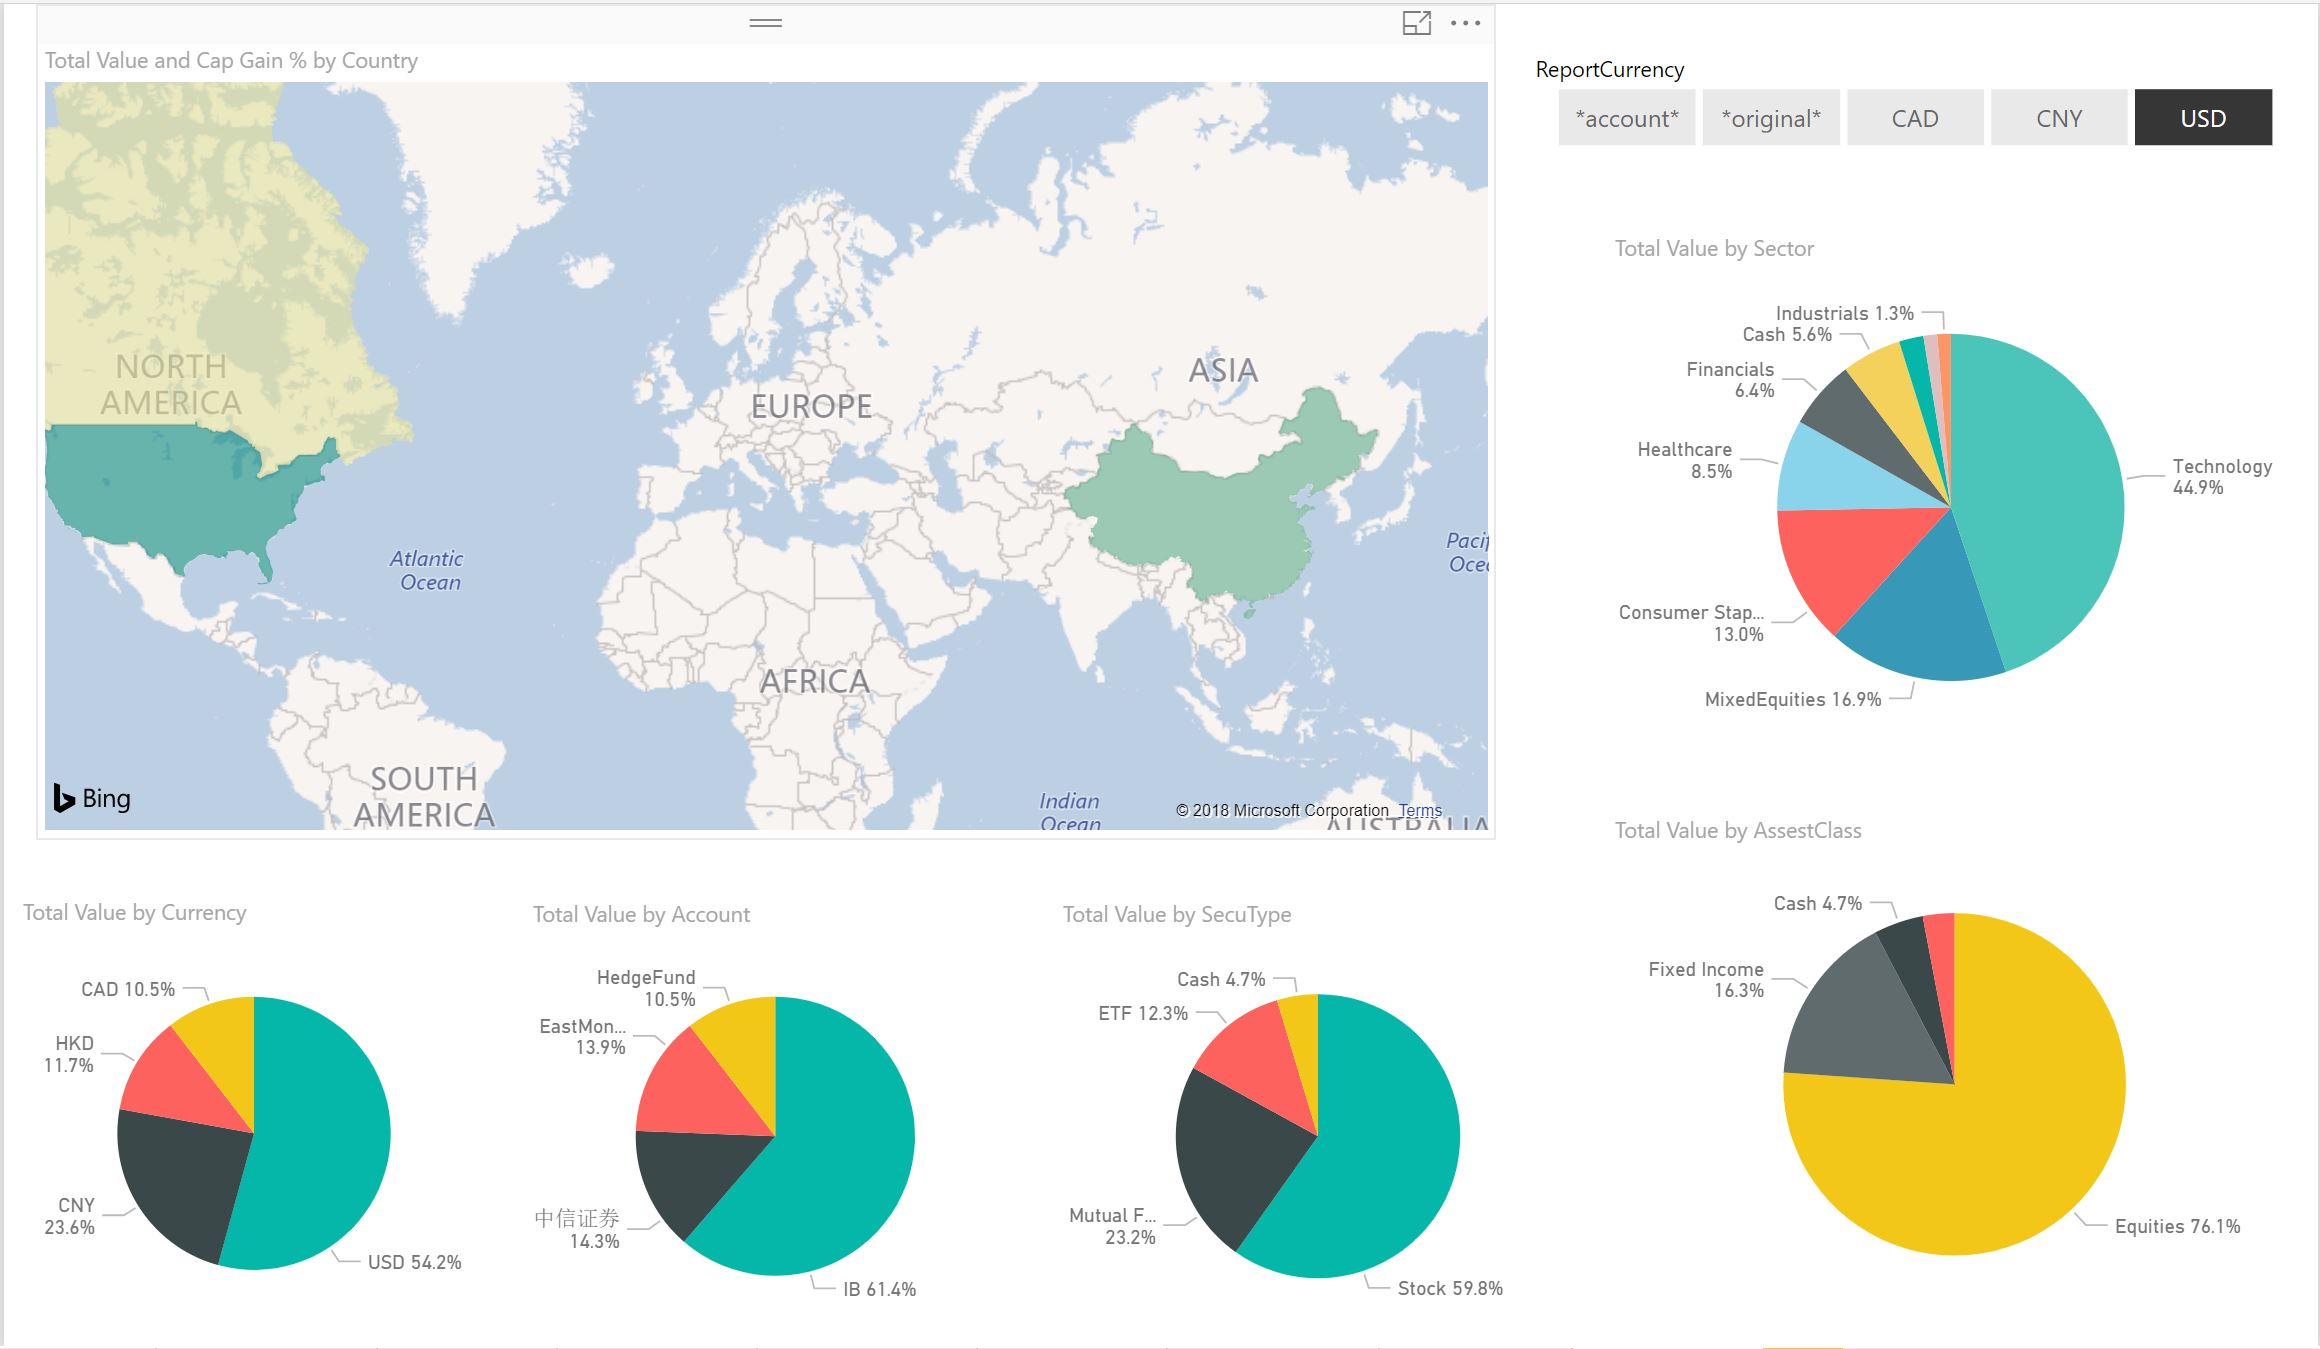

The page's visual inventory and layout, read from the dashboard file:
{"tool":"powerbi","page":{"name":"Allocation","canvas":[1280,720],"ordinal":8},"visuals":[{"type":"slicer","fields":{"Values":["ReportCurrency.ReportCurrency"]},"box":[833.4,0,446.3,63],"z":1},{"type":"filledMap","fields":{"Category":["Symbols.Country"],"Size":["Report.Total Value"]},"box":[17.5,0,807.9,439.7],"z":2},{"type":"pieChart","fields":{"Category":["Currencys.Code"],"Y":["Report.Total Value"]},"box":[5.5,471.2,265.4,246.6],"z":3},{"type":"pieChart","fields":{"Category":["Sectors.Sector"],"Y":["Report.Total Value"]},"box":[885.9,104,381.6,288.7],"z":4},{"type":"pieChart","fields":{"Category":["Accounts.AccountName"],"Y":["Report.Total Value"]},"box":[287.6,472.3,278.2,247.7],"z":5},{"type":"pieChart","fields":{"Y":["Report.Total Value"],"Category":["SecuTypes.SecuType"]},"box":[580.1,472.3,292,247.7],"z":6},{"type":"pieChart","fields":{"Y":["Report.Total Value"],"Category":["AssestClasses.AssestClass"]},"box":[885.3,425.8,385.4,283.1],"z":7}]}

Visuals, with their boxes on the page's 1280x720 design canvas (x1, y1, x2, y2). These are canvas units, not pixel positions in the 2320x1349 screenshot, which may show the page scaled, cropped or inside an application window:
slicer - ReportCurrency.ReportCurrency: 833/0/1280/63
filledMap - Symbols.Country x Report.Total Value: 18/0/825/440
pieChart - Currencys.Code x Report.Total Value: 6/471/271/718
pieChart - Sectors.Sector x Report.Total Value: 886/104/1268/393
pieChart - Accounts.AccountName x Report.Total Value: 288/472/566/720
pieChart - Report.Total Value x SecuTypes.SecuType: 580/472/872/720
pieChart - Report.Total Value x AssestClasses.AssestClass: 885/426/1271/709
